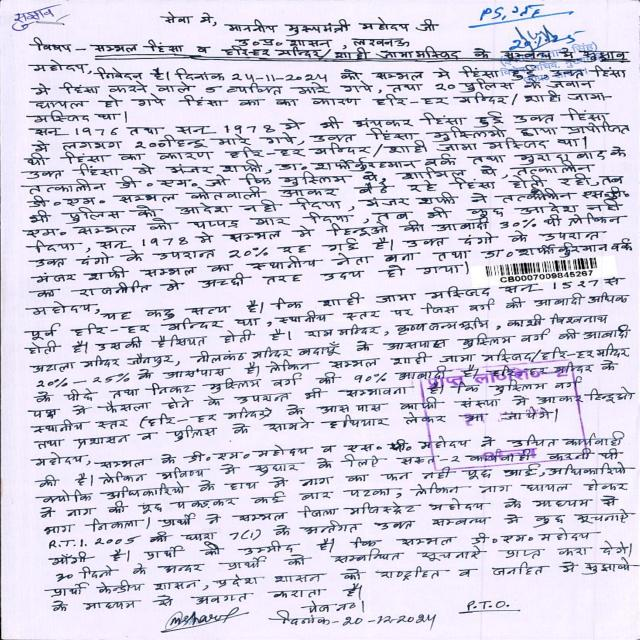barcode: (484, 257, 609, 285)
